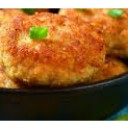cutlet: (1, 18, 105, 80)
